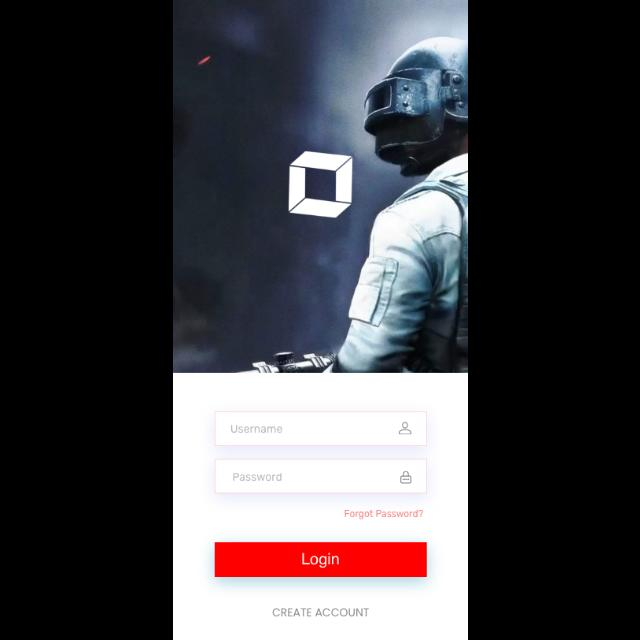icon: (399, 422, 411, 434), (400, 472, 410, 484)
image: (173, 1, 467, 373), (288, 152, 352, 218)
input: (214, 413, 426, 447), (214, 459, 426, 493)
text: (344, 510, 424, 520), (272, 608, 368, 616), (230, 425, 282, 433), (233, 473, 281, 481)
textbutton: (214, 543, 426, 577)
